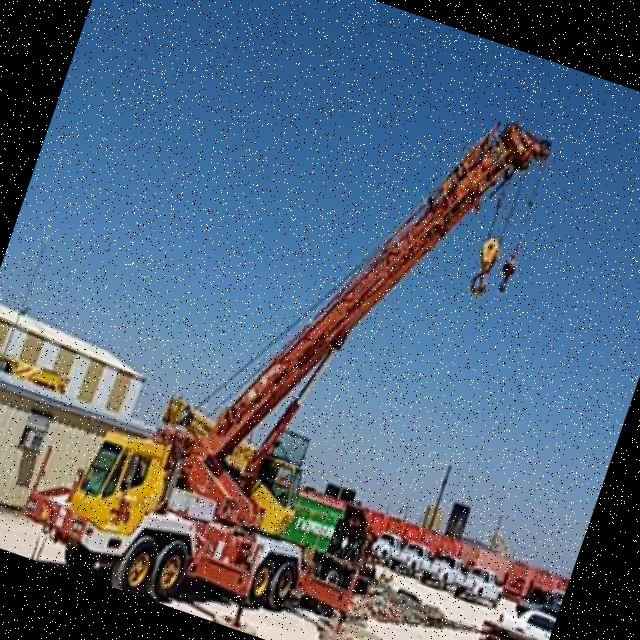Mobile Crane: (7, 7, 552, 640)
